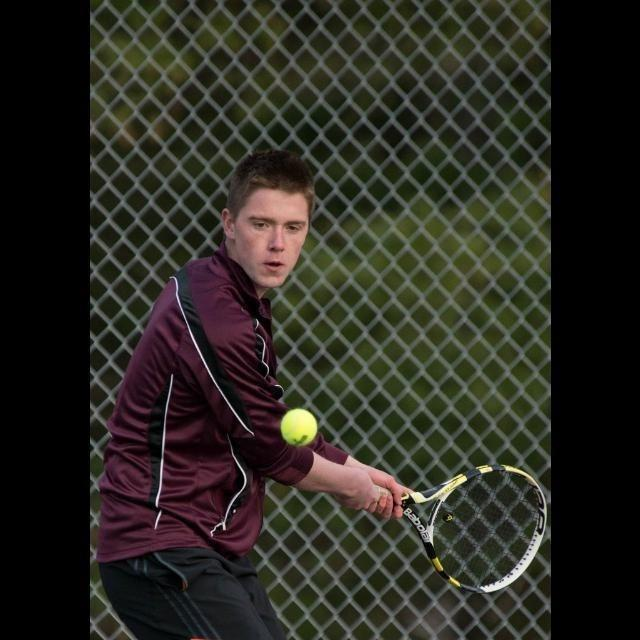ball: (280, 408, 318, 447)
